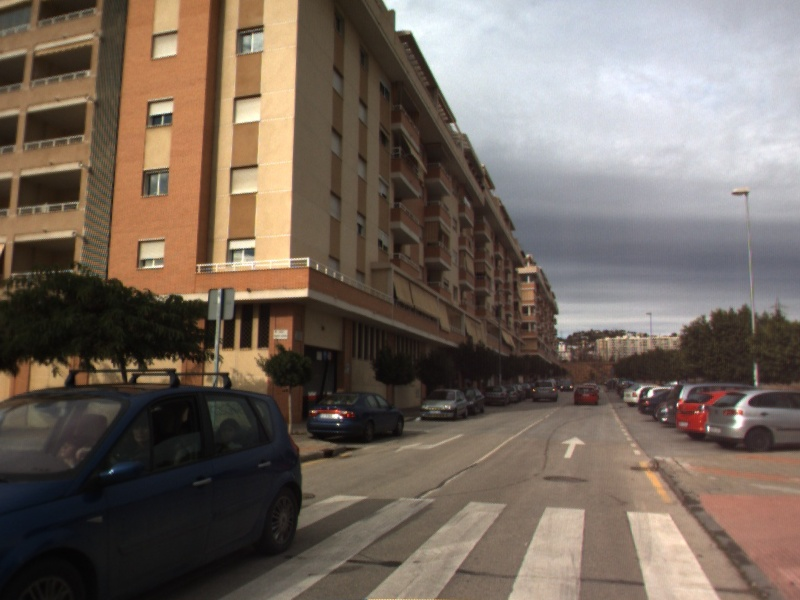STRAIGHT: (559, 434, 588, 460)
